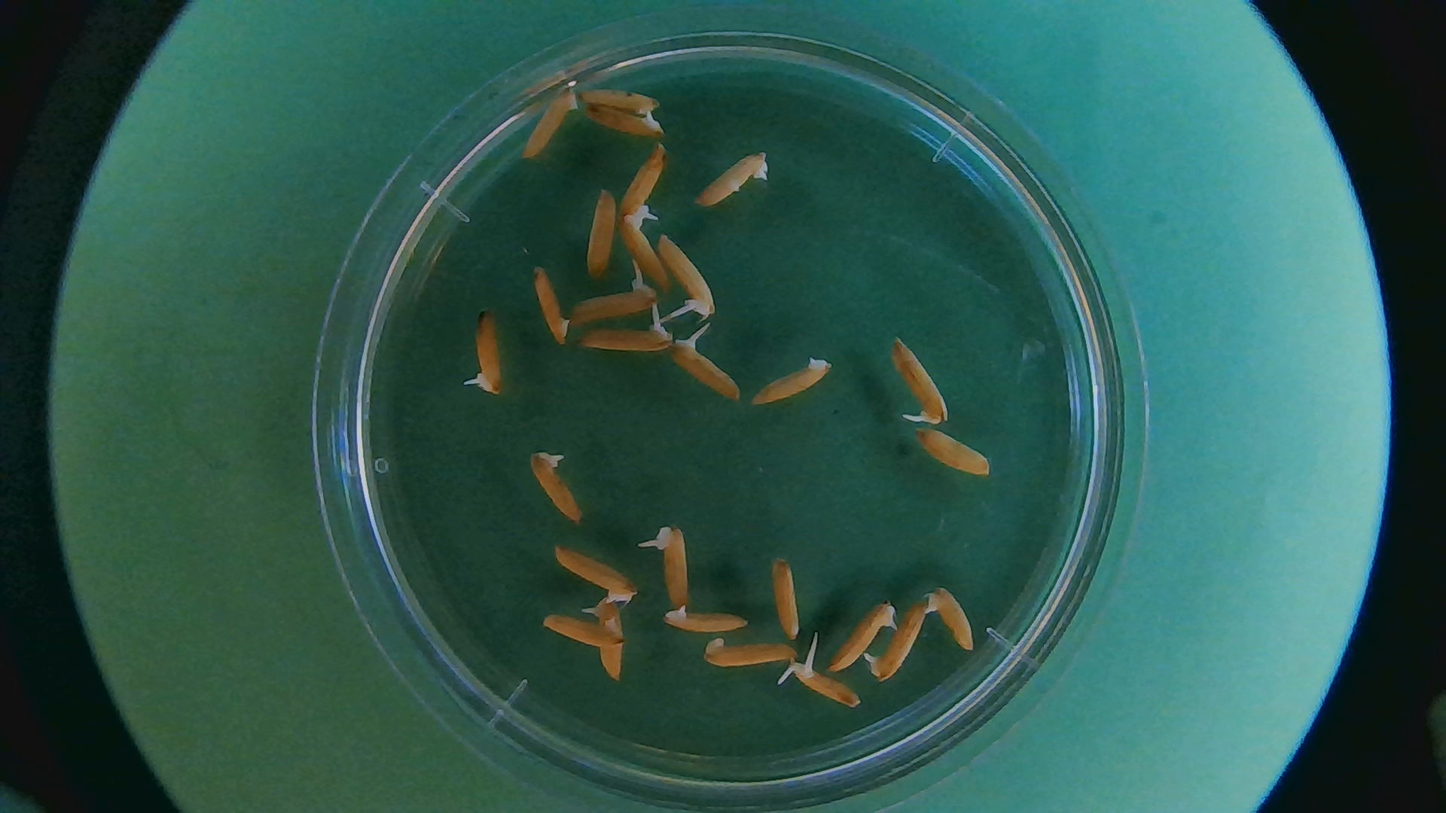no: (553, 537, 639, 604), (749, 349, 834, 409), (525, 446, 585, 522), (696, 148, 768, 208), (523, 89, 578, 162), (916, 431, 993, 479), (614, 211, 663, 281), (530, 263, 569, 349), (926, 585, 976, 649), (541, 610, 626, 647), (703, 635, 799, 666), (586, 187, 617, 280), (578, 84, 660, 119), (769, 557, 802, 641), (663, 604, 752, 634)
yes: (886, 334, 947, 424), (657, 227, 715, 313), (869, 595, 924, 681), (830, 604, 897, 674), (668, 338, 740, 403), (784, 657, 862, 708), (618, 144, 666, 221), (651, 523, 694, 607), (469, 307, 507, 397), (572, 286, 660, 323), (582, 100, 664, 139), (579, 320, 676, 352), (593, 595, 627, 680)
